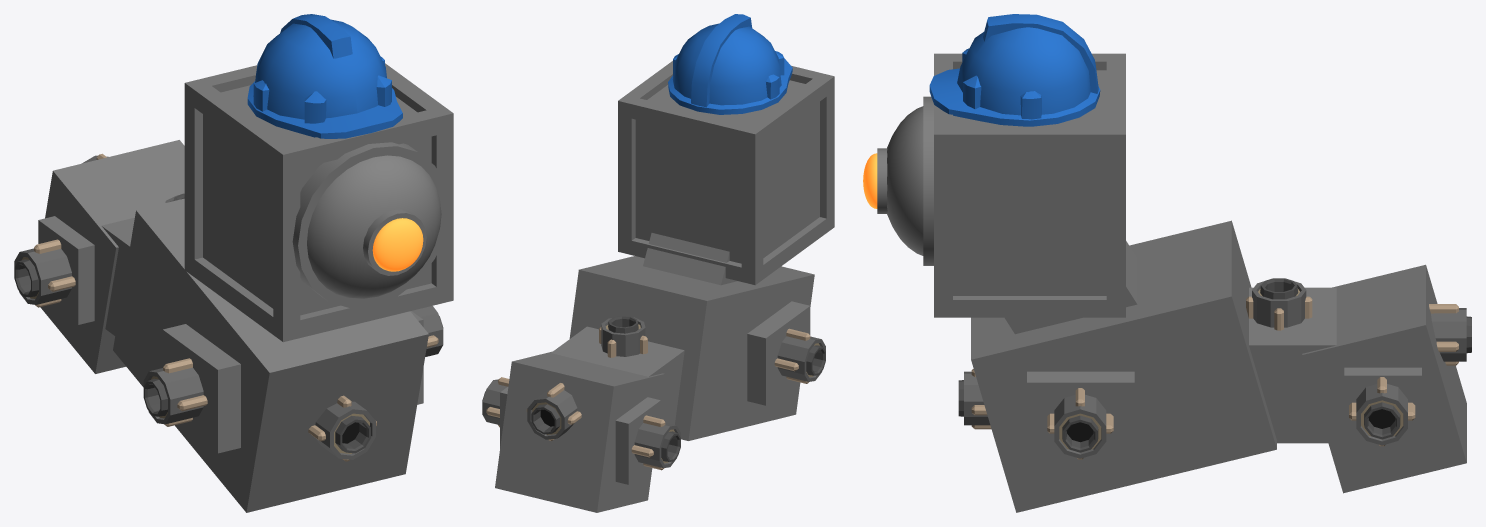
The model's file is CustomisableBotBase 6.fbx.
The picture shows the model from 3 angles, left to right: view 1: azimuth 30°, elevation 25°; view 2: azimuth 150°, elevation 25°; view 3: azimuth 270°, elevation 25°; orthographic projection. The views are drawn at different scales.
Parts seen in each view (by area): view 1: Cube__1_, TBC_Hard_hat, Cube__12_, Cube, Sphere, Cube__5_, Cylinder__1_, Cube__11_, Cube__5__1, Cube__7_, AttatchPointModel_3, Cube__4_ (+12 smaller); view 2: Cube__1_, Cube__12_, Cube, TBC_Hard_hat, Cube__2_, Cube__5_, Cube__10_, Cube__4__1, Cube__3_, Cube__4_, Cube__8_, Cube_1 (+10 smaller); view 3: Cube__1_, Cube__12_, Cube, TBC_Hard_hat, Cube__2_, Cube__5_, Sphere, Cube__1__1, Cube__8_, Cube__4_, Cube__9_, Cube__3__1 (+10 smaller).
Boxes of the visible parts, x1,y1,x2,y2 form: Cube__1_: [113, 198, 428, 512]; TBC_Hard_hat: [247, 14, 402, 138]; Cube__12_: [203, 85, 431, 315]; Cube: [40, 140, 184, 373]; Sphere: [307, 155, 441, 298]; Cube__5_: [162, 311, 423, 453]; Cylinder__1_: [292, 142, 449, 308]; Cube__11_: [273, 143, 300, 333]; Cube__5__1: [273, 108, 451, 172]; Cube__7_: [273, 283, 453, 342]; AttatchPointModel_3: [143, 358, 207, 426]; Cube__4_: [38, 216, 94, 324]; Cube__1_: [569, 256, 814, 440]; Cube__12_: [635, 80, 819, 263]; Cube: [495, 351, 664, 512]; TBC_Hard_hat: [668, 14, 792, 114]; Cube__2_: [551, 326, 684, 424]; Cube__5_: [747, 301, 810, 405]; Cube__10_: [741, 125, 763, 277]; Cube__4__1: [624, 97, 760, 148]; Cube__3_: [643, 233, 737, 285]; Cube__4_: [500, 387, 660, 484]; Cube__8_: [618, 95, 638, 247]; Cube_1: [741, 74, 828, 148]; Cube__1_: [971, 220, 1276, 512]; Cube__12_: [953, 70, 1106, 295]; Cube: [1302, 264, 1466, 493]; TBC_Hard_hat: [929, 14, 1100, 126]; Cube__2_: [1249, 287, 1336, 443]; Cube__5_: [1027, 371, 1134, 464]; Sphere: [887, 106, 923, 255]; Cube__1__1: [934, 126, 1125, 151]; Cube__8_: [1106, 126, 1125, 308]; Cube__4_: [1344, 367, 1421, 449]; Cube__9_: [934, 126, 952, 308]; Cube__3__1: [936, 296, 1125, 317].
Bounding box in the file's own units: 132 × 210 × 254.
